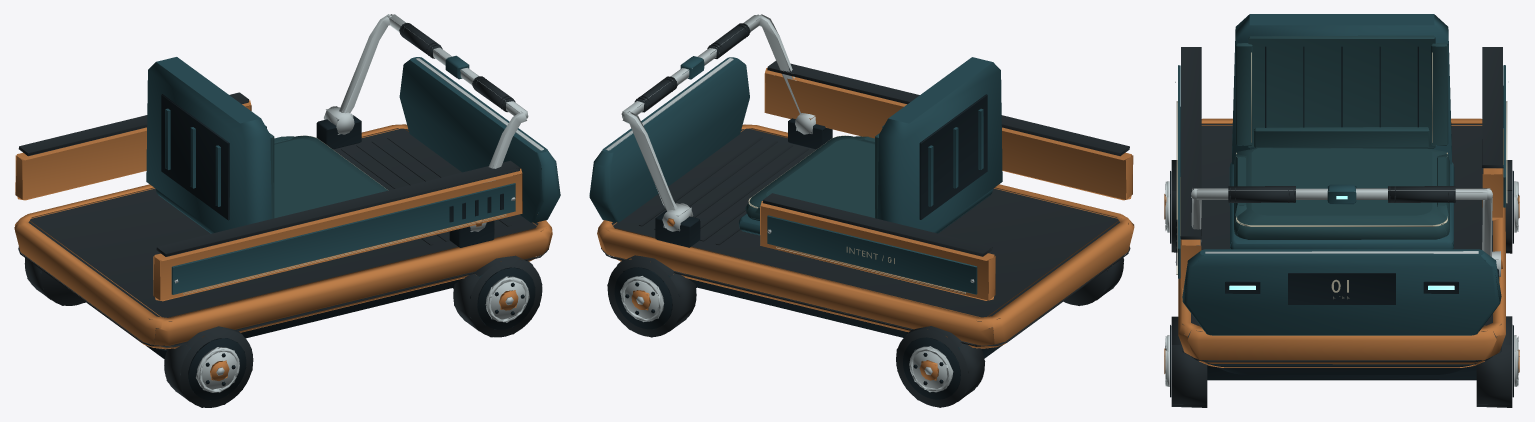
File: coaster-car-distant.glb
3 views of the same model, side by side, from view 1: azimuth 30°, elevation 25°; view 2: azimuth 150°, elevation 25°; view 3: azimuth 270°, elevation 25° (orthographic). The views are drawn at different scales.
Parts seen in each view (by area): view 1: 05 | Graphite elastomer and chassis, 02 | Deep petrol moulded shell, 01 | Satin copper automotive enamel, 07 | Recessed blackened steel, 03 | Brushed stainless fittings, 04 | Pebbled teal upholstery, 06 | Warm stitching and ceramic markings; view 2: 05 | Graphite elastomer and chassis, 01 | Satin copper automotive enamel, 02 | Deep petrol moulded shell, 07 | Recessed blackened steel, 03 | Brushed stainless fittings, 04 | Pebbled teal upholstery, 06 | Warm stitching and ceramic markings; view 3: 04 | Pebbled teal upholstery, 02 | Deep petrol moulded shell, 05 | Graphite elastomer and chassis, 01 | Satin copper automotive enamel, 07 | Recessed blackened steel, 03 | Brushed stainless fittings, 06 | Warm stitching and ceramic markings.
Boxes of the visible parts, <box> form: 05 | Graphite elastomer and chassis: <box>18,23,548,407</box>; 02 | Deep petrol moulded shell: <box>146,55,560,349</box>; 01 | Satin copper automotive enamel: <box>14,100,552,380</box>; 07 | Recessed blackened steel: <box>146,94,541,400</box>; 03 | Brushed stainless fittings: <box>174,14,543,392</box>; 04 | Pebbled teal upholstery: <box>265,125,388,218</box>; 06 | Warm stitching and ceramic markings: <box>183,135,506,294</box>; 05 | Graphite elastomer and chassis: <box>601,23,1130,407</box>; 01 | Satin copper automotive enamel: <box>597,68,1134,380</box>; 02 | Deep petrol moulded shell: <box>589,56,1002,349</box>; 07 | Recessed blackened steel: <box>614,94,1002,399</box>; 03 | Brushed stainless fittings: <box>605,14,974,392</box>; 04 | Pebbled teal upholstery: <box>745,125,884,220</box>; 06 | Warm stitching and ceramic markings: <box>748,135,965,293</box>; 04 | Pebbled teal upholstery: <box>1234,35,1449,239</box>; 02 | Deep petrol moulded shell: <box>1178,14,1505,335</box>; 05 | Graphite elastomer and chassis: <box>1171,47,1512,407</box>; 01 | Satin copper automotive enamel: <box>1164,118,1519,373</box>; 07 | Recessed blackened steel: <box>1165,46,1518,397</box>; 03 | Brushed stainless fittings: <box>1165,181,1518,386</box>; 06 | Warm stitching and ceramic markings: <box>1176,52,1507,298</box>.
Bounding box in the file's own units: 2.93 × 1.66 × 2.02.
